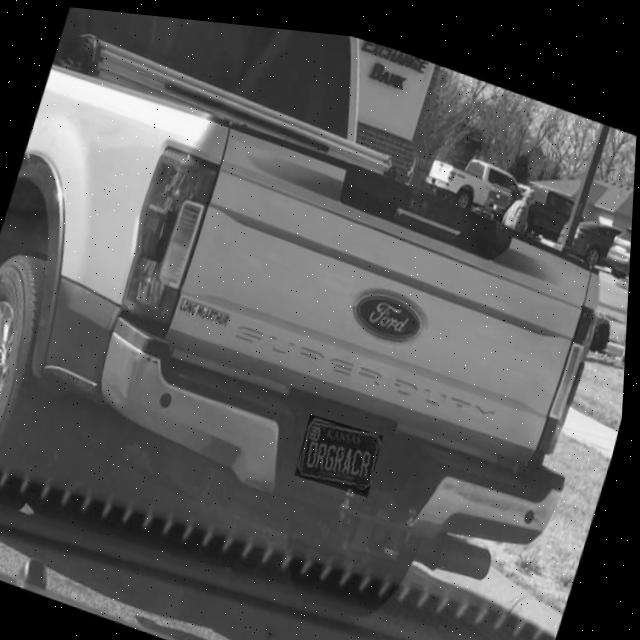LicensePlate: (304, 413, 384, 482)
